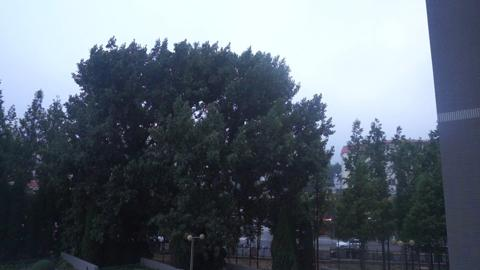UAV: (235, 77, 244, 83)
